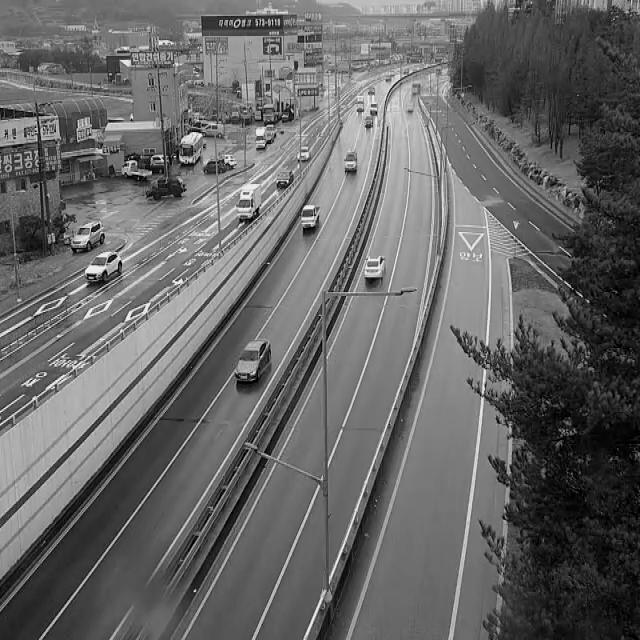Bus: (179, 130, 203, 166), (412, 83, 421, 94)
Car: (235, 340, 271, 382), (71, 220, 105, 254), (85, 252, 123, 282), (364, 255, 386, 282), (198, 124, 224, 137), (276, 169, 294, 187), (344, 150, 357, 173), (203, 161, 224, 174), (223, 155, 237, 170), (150, 155, 170, 165), (297, 146, 311, 160), (281, 109, 294, 122), (266, 125, 277, 138), (364, 116, 373, 128), (370, 102, 378, 114), (266, 133, 274, 144), (407, 104, 414, 113), (368, 86, 375, 94)
Truck: (236, 184, 261, 221), (151, 177, 187, 200), (122, 161, 152, 181), (302, 205, 321, 230), (138, 155, 164, 173), (262, 105, 278, 123), (256, 127, 266, 150), (356, 96, 364, 112)
